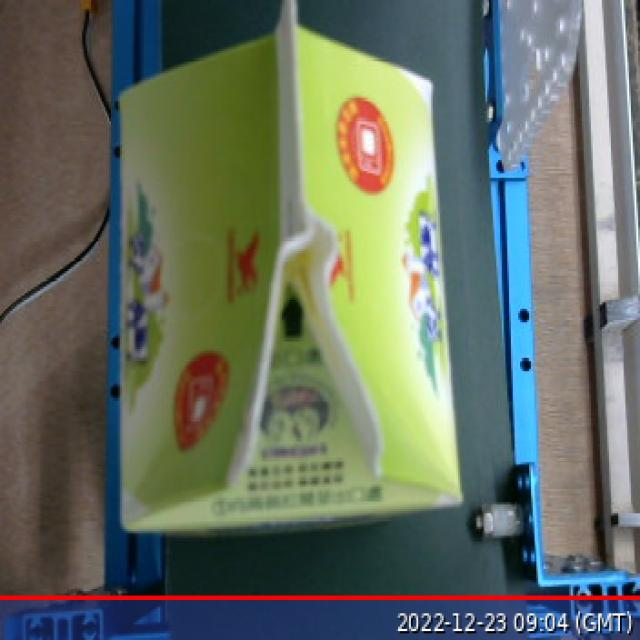non_white_jug: (95, 4, 463, 535)
